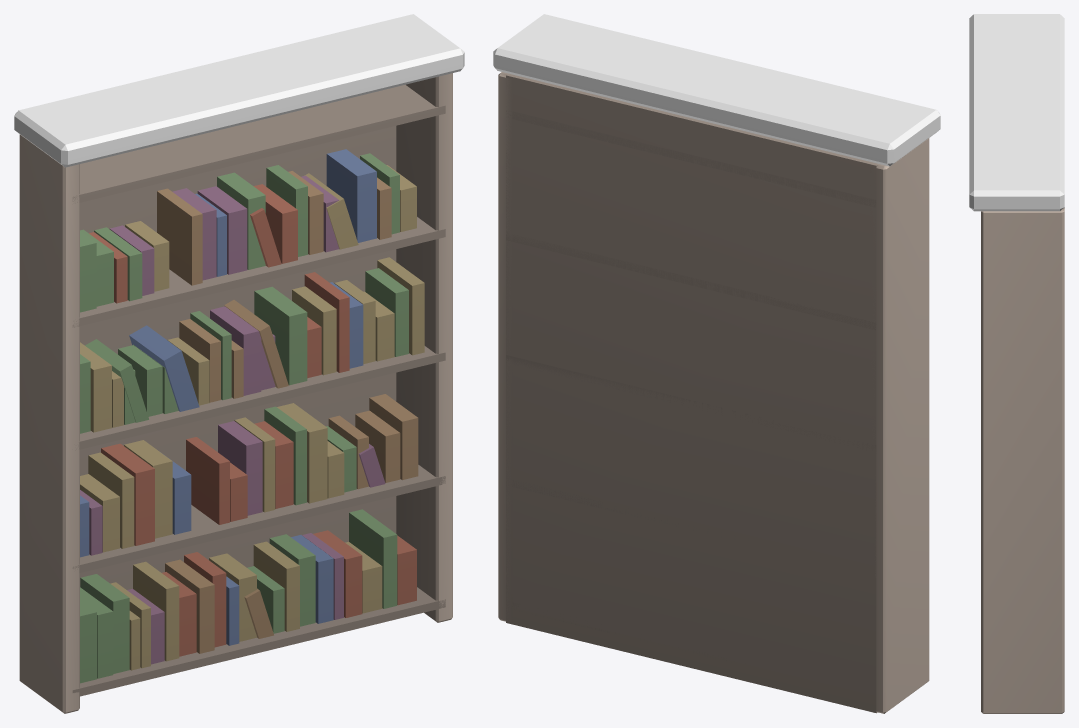
File: bookshelf_e.glb
3 renders of one model, left to right at view 1: azimuth 30°, elevation 25°; view 2: azimuth 150°, elevation 25°; view 3: azimuth 270°, elevation 25°, orthographic. The views are drawn at different scales.
Visible parts, largest first — view 1: book; view 2: book; view 3: book.
Part boxes in pixels (x1,y1,x2,y2): book: [14, 14, 464, 713]; book: [493, 14, 940, 713]; book: [969, 14, 1064, 713].
Size of the model in its own units: 1.84 by 2.5 by 0.41.
